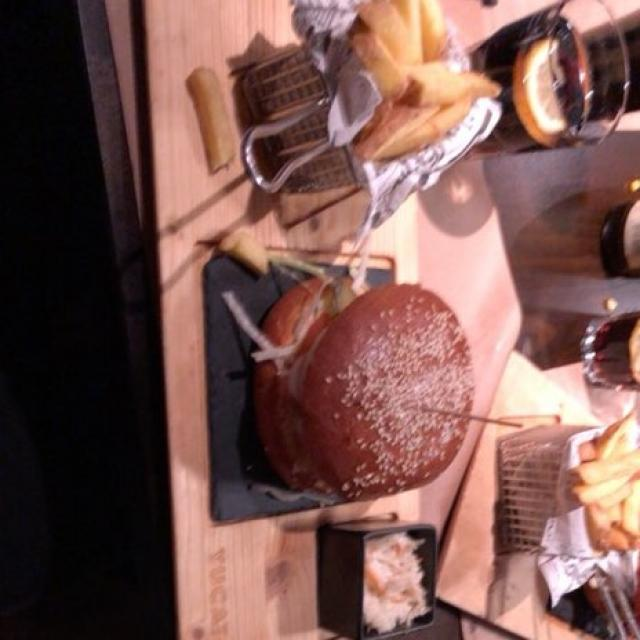chips-french-fries: (350, 28, 488, 164)
coleslaw-chopped-without-sauce: (369, 537, 427, 628)
hamburger-bread-meat-ketchup: (250, 278, 470, 493)
